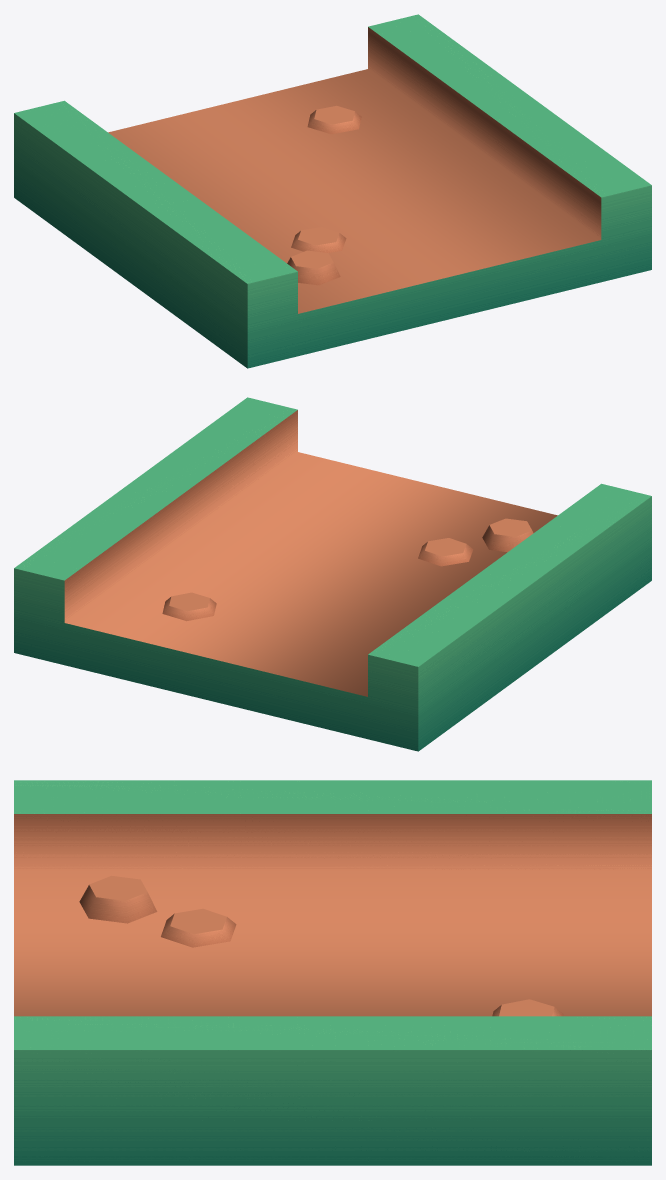
Rendered from tile-straight.glb.
The picture shows the model from 3 angles, top to bottom: view 1: azimuth 30°, elevation 25°; view 2: azimuth 150°, elevation 25°; view 3: azimuth 270°, elevation 25°; orthographic projection. The views are drawn at different scales.
Parts seen in each view (by area): view 1: tile-straight; view 2: tile-straight; view 3: tile-straight.
Part boxes in pixels (<box>): tile-straight: <box>14,14,651,368</box>; tile-straight: <box>14,397,651,751</box>; tile-straight: <box>14,780,651,1165</box>.
Size of the model in its own units: 3 by 0.6 by 3.
Materials: 1 (1 with a texture image).
